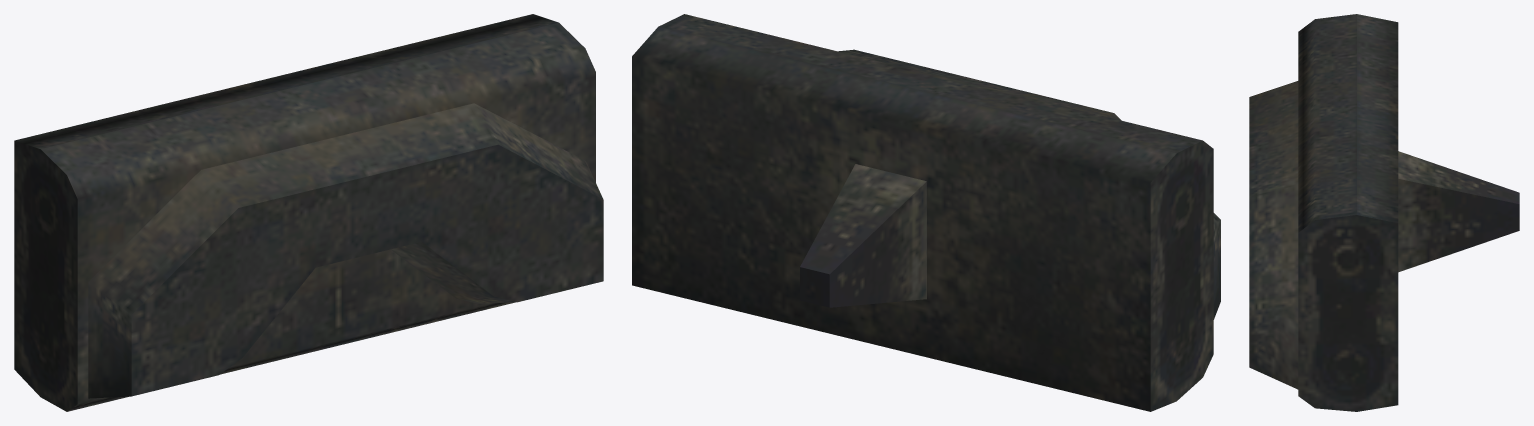
The picture shows the model from 3 angles, left to right: view 1: azimuth 30°, elevation 25°; view 2: azimuth 150°, elevation 25°; view 3: azimuth 270°, elevation 25°; orthographic projection. The views are drawn at different scales.
Visible parts, largest first — view 1: set_0_group_0; view 2: set_0_group_0; view 3: set_0_group_0.
Boxes of the visible parts, x1=… form: set_0_group_0: x1=14, y1=14, x2=603, y2=411; set_0_group_0: x1=632, y1=14, x2=1220, y2=411; set_0_group_0: x1=1249, y1=14, x2=1519, y2=411.
Bounding box in the file's own units: 0.3378 × 0.1544 × 0.1919.
1 material, 1 textured.
